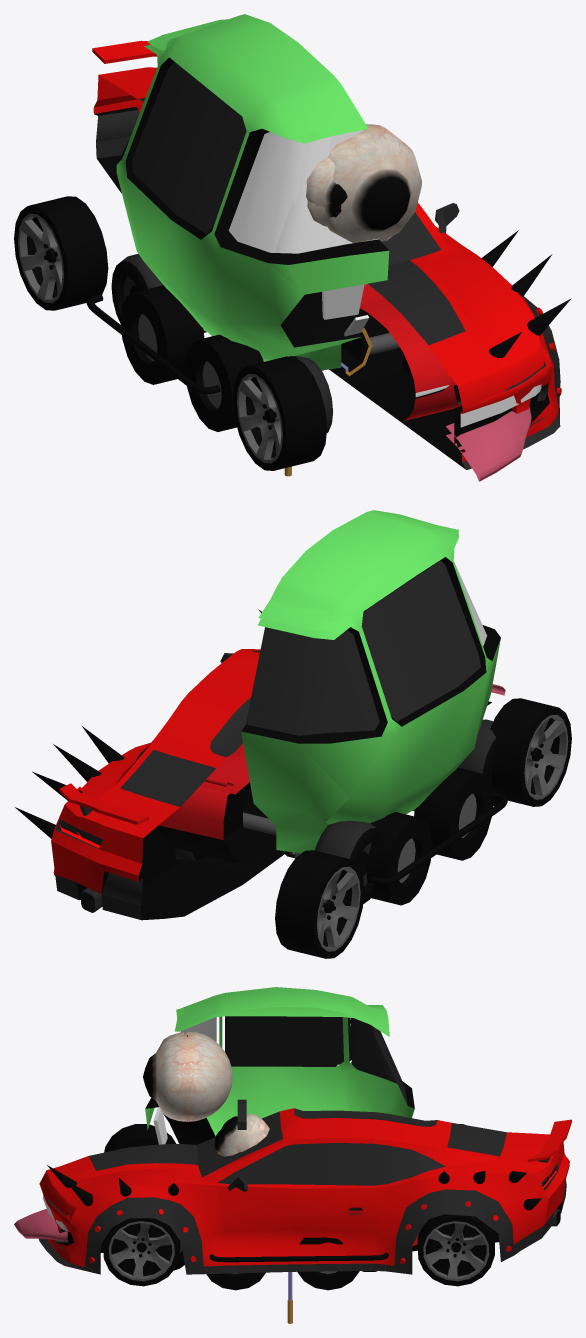
File: TWO.EYE.ZOMBIE.CAR.glb
The picture shows the model from 3 angles, top to bottom: view 1: azimuth 30°, elevation 25°; view 2: azimuth 150°, elevation 25°; view 3: azimuth 270°, elevation 25°; orthographic projection. The views are drawn at different scales.
Visible parts, largest first — view 1: BOUNCER, ENEMY.CAR, ZOMBIE.CAR, Cylinder.005, Cylinder.006, TWO.EYED.ZOMBIE.CAR, ORANGE.CAR, Cylinder.007, Cylinder.002, ARMOURED.CAR, ARMOURED.CAR.002, TWO.EYE.BOUNCER (+3 smaller); view 2: BOUNCER, ENEMY.CAR, ZOMBIE.CAR, Cylinder.006, ORANGE.CAR, Cylinder.005, Cylinder.007, Cylinder.002, Cube.002, Cube.001; view 3: ENEMY.CAR, ZOMBIE.CAR, BOUNCER, Cylinder.004, Cylinder.003, BOUNCER.001, Cylinder.007, Cylinder.005, ARMOURED.CAR.002, ARMOURED.CAR, Cylinder.002, BOUNCER.002 (+1 smaller).
Boxes of the visible parts, x1,y1,x2,y2 form: BOUNCER: (116,14,390,360); ENEMY.CAR: (86,40,571,469); ZOMBIE.CAR: (147,19,421,370); Cylinder.005: (233,356,327,470); Cylinder.006: (14,196,108,310); TWO.EYED.ZOMBIE.CAR: (268,130,387,294); ORANGE.CAR: (335,284,461,420); Cylinder.007: (120,285,365,384); Cylinder.002: (185,326,399,431); ARMOURED.CAR: (454,349,554,462); ARMOURED.CAR.002: (446,406,531,481); TWO.EYE.BOUNCER: (307,85,368,226); BOUNCER: (243,510,500,824); ENEMY.CAR: (15,609,507,920); ZOMBIE.CAR: (241,599,349,853); Cylinder.006: (275,850,364,958); ORANGE.CAR: (156,743,276,862); Cylinder.005: (490,698,571,806); Cylinder.007: (238,788,432,905); Cylinder.002: (243,767,493,860); Cube.002: (175,820,381,903); Cube.001: (458,719,499,806); ENEMY.CAR: (39,1108,571,1274); ZOMBIE.CAR: (143,1005,414,1144); BOUNCER: (144,987,414,1133); Cylinder.004: (417,1214,494,1286); Cylinder.003: (103,1218,180,1286); BOUNCER.001: (221,1113,269,1152); Cylinder.007: (297,1237,359,1290); Cylinder.005: (104,1124,176,1152); ARMOURED.CAR.002: (14,1209,67,1241); ARMOURED.CAR: (39,1170,74,1258); Cylinder.002: (206,1272,265,1290); BOUNCER.002: (214,1099,246,1156).
Size of the model in its own units: 2.4 by 3.42 by 5.48.
19 materials, 1 textured.
